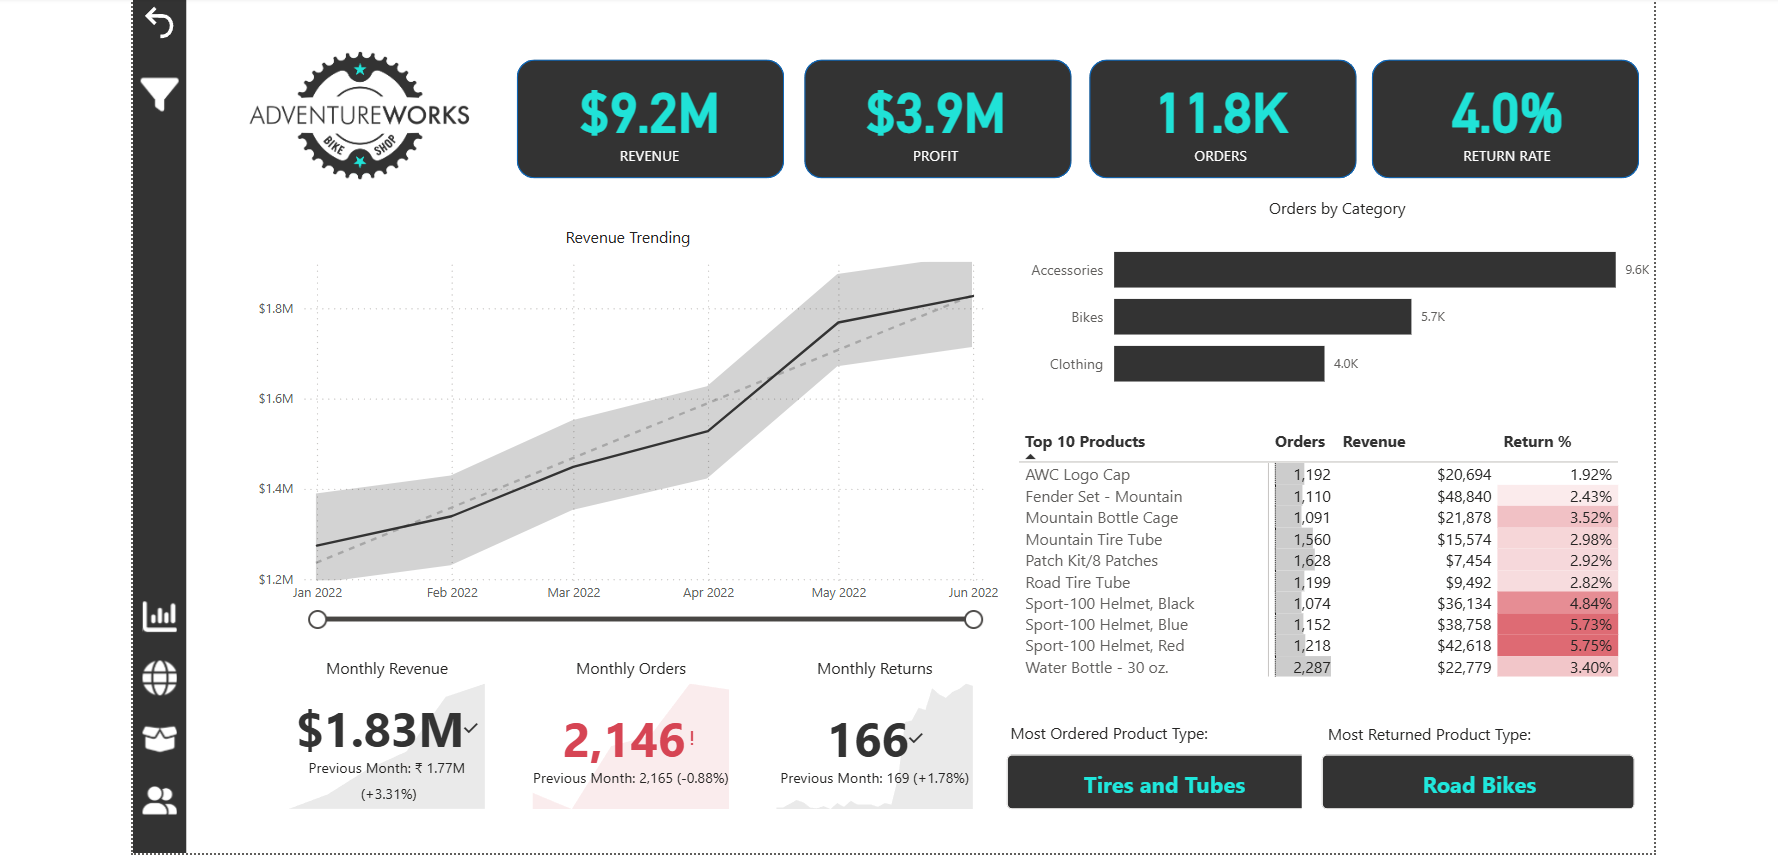

Layout of this report page (visuals, bound fields, positions):
{"tool":"powerbi","page":{"name":"Exec Dashboard","canvas":[1280,720],"ordinal":0},"visuals":[{"type":"image","title":"AW Logo","box":[77.5,7.5,226.2,185],"z":0},{"type":"card","fields":{"Values":["Measure Table.Total Revenue"]},"box":[342.5,33.8,183.8,133.7],"z":0,"group":"g1"},{"type":"group","id":"g1","title":"Card","box":[342.5,33.8,183.8,133.8],"z":0,"group":"g3"},{"type":"card","fields":{"Values":["Measure Table.Total Profit"]},"box":[582.9,33.8,183.8,133.8],"z":0,"group":"g4"},{"type":"card","fields":{"Values":["Measure Table.Total Orders"]},"box":[823.3,33.8,183.8,133.7],"z":0,"group":"g6"},{"type":"card","fields":{"Values":["Measure Table.Return Rate"]},"box":[1063.7,33.8,183.8,133.7],"z":0,"group":"g7"},{"type":"group","id":"g2","title":"KPI Backgrounds","box":[323,52.6,944.5,100.5],"z":0,"group":"g5"},{"type":"shape","box":[323,53.1,225,100],"z":0,"group":"g2"},{"type":"actionButton","box":[0,502.5,44.8,37.3],"z":0,"group":"g8"},{"type":"shape","title":"Left Nav Background","box":[0,0,45,720],"z":1000},{"type":"group","id":"g3","title":"KPI Values","box":[342.5,33.8,905,133.8],"z":1000,"group":"g5"},{"type":"group","id":"g4","title":"Card","box":[582.9,33.8,183.8,133.8],"z":1000,"group":"g3"},{"type":"shape","box":[565,52.6,225,100],"z":1000,"group":"g2"},{"type":"actionButton","box":[0,553.9,44.8,37.3],"z":1000,"group":"g8"},{"type":"group","id":"g5","title":"KPIs","box":[323,33.8,944.5,133.8],"z":2000},{"type":"group","id":"g6","title":"Card","box":[823.3,33.8,183.8,133.8],"z":2000,"group":"g3"},{"type":"shape","box":[805,52.6,225,100],"z":2000,"group":"g2"},{"type":"actionButton","box":[0,605.3,44.8,37.3],"z":2000,"group":"g8"},{"type":"group","id":"g7","title":"Card","box":[1063.7,33.8,183.8,133.8],"z":3000,"group":"g3"},{"type":"shape","box":[1042.5,52.6,225,100],"z":3000,"group":"g2"},{"type":"lineChart","title":"Revenue Trending","fields":{"Category":["Calendar Lookup.Start of Month"],"Y":["Measure Table.Total Revenue"]},"box":[100,192.9,632.9,341.4],"z":3000},{"type":"actionButton","box":[0,656.8,44.8,37.3],"z":3000,"group":"g8"},{"type":"kpi","title":"Monthly Revenue ","fields":{"Goal":["Measure Table.Previous Month Revenue"],"Indicator":["Measure Table.Total Revenue"],"TrendLine":["Calendar Lookup.Start of Month"]},"box":[126,554.8,175,133],"z":4000},{"type":"kpi","title":"Monthly Orders ","fields":{"Goal":["Measure Table.Previous Month Orders"],"Indicator":["Measure Table.Total Orders"],"TrendLine":["Calendar Lookup.Start of Month"]},"box":[330.9,554.8,175.4,133.1],"z":5000},{"type":"kpi","title":"Monthly Returns","fields":{"Goal":["Measure Table.Previous Month Returns"],"Indicator":["Measure Table.Total Returns"],"TrendLine":["Calendar Lookup.Start of Month"]},"box":[536.1,554.8,175.4,133.1],"z":6000},{"type":"clusteredBarChart","title":"Orders by Category","fields":{"Category":["Product Categories Lookup.CategoryName"],"Y":["Measure Table.Total Orders"]},"box":[745.1,167.9,534.9,177.9],"z":7000},{"type":"pivotTable","fields":{"Rows":["Product Lookup.ProductName"],"Values":["Measure Table.Total Orders","Measure Table.Total Revenue","Measure Table.Return Rate"]},"box":[740.2,359.5,527.4,222.7],"z":8000},{"type":"cardVisual","fields":{"Data":["Min(Product Subcategories Lookup.SubcategoryName)"]},"box":[717.8,620.7,297.3,80.9],"z":9000},{"type":"textbox","box":[732.7,604.6,194.1,32.3],"z":10000},{"type":"textbox","box":[998.9,592.1,31.1,8.7],"z":11000},{"type":"cardVisual","fields":{"Data":["Min(Product Subcategories Lookup.SubcategoryName)"]},"box":[982.7,620.7,297.3,80.9],"z":12000},{"type":"textbox","box":[1000.1,605.8,194.1,32.3],"z":13000},{"type":"actionButton","box":[3.7,0,36.1,42.3],"z":14000},{"type":"group","id":"g8","title":"Navigation Buttons","box":[0,502.5,45,191.2],"z":15000},{"type":"actionButton","box":[0,62.5,45,40],"z":16000}]}

Visuals, with their boxes on the page's 1280x720 design canvas (x1, y1, x2, y2). These are canvas units, not pixel positions in the 1778x861 screenshot, which may show the page scaled, cropped or inside an application window:
"AW Logo" image: left=78, top=8, right=304, bottom=192
card - Measure Table.Total Revenue: left=342, top=34, right=526, bottom=168
"Card" group: left=342, top=34, right=526, bottom=168
card - Measure Table.Total Profit: left=583, top=34, right=767, bottom=168
card - Measure Table.Total Orders: left=823, top=34, right=1007, bottom=168
card - Measure Table.Return Rate: left=1064, top=34, right=1248, bottom=168
"KPI Backgrounds" group: left=323, top=53, right=1268, bottom=153
shape: left=323, top=53, right=548, bottom=153
actionButton: left=0, top=502, right=45, bottom=540
"Left Nav Background" shape: left=0, top=0, right=45, bottom=720
"KPI Values" group: left=342, top=34, right=1248, bottom=168
"Card" group: left=583, top=34, right=767, bottom=168
shape: left=565, top=53, right=790, bottom=153
actionButton: left=0, top=554, right=45, bottom=591
"KPIs" group: left=323, top=34, right=1268, bottom=168
"Card" group: left=823, top=34, right=1007, bottom=168
shape: left=805, top=53, right=1030, bottom=153
actionButton: left=0, top=605, right=45, bottom=643
"Card" group: left=1064, top=34, right=1248, bottom=168
shape: left=1042, top=53, right=1268, bottom=153
"Revenue Trending" lineChart: left=100, top=193, right=733, bottom=534
actionButton: left=0, top=657, right=45, bottom=694
"Monthly Revenue " kpi: left=126, top=555, right=301, bottom=688
"Monthly Orders " kpi: left=331, top=555, right=506, bottom=688
"Monthly Returns" kpi: left=536, top=555, right=712, bottom=688
"Orders by Category" clusteredBarChart: left=745, top=168, right=1280, bottom=346
pivotTable - Product Lookup.ProductName x Measure Table.Total Orders: left=740, top=360, right=1268, bottom=582
cardVisual - Min(Product Subcategories Lookup.SubcategoryName): left=718, top=621, right=1015, bottom=702
textbox: left=733, top=605, right=927, bottom=637
textbox: left=999, top=592, right=1030, bottom=601
cardVisual - Min(Product Subcategories Lookup.SubcategoryName): left=983, top=621, right=1280, bottom=702
textbox: left=1000, top=606, right=1194, bottom=638
actionButton: left=4, top=0, right=40, bottom=42
"Navigation Buttons" group: left=0, top=502, right=45, bottom=694
actionButton: left=0, top=62, right=45, bottom=102
